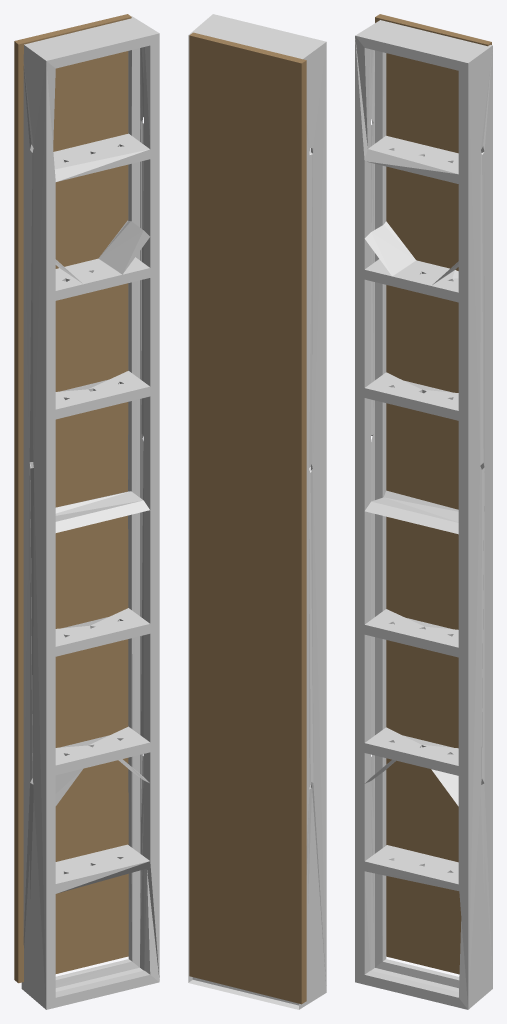
3 renders of one model, left to right at view 1: azimuth 30°, elevation 25°; view 2: azimuth 150°, elevation 25°; view 3: azimuth 330°, elevation 25°, orthographic.
Visible parts, largest first — view 1: 24304244; view 2: 24304244; view 3: 24304244.
Boxes of the visible parts, box(x1,y1,x2,y2) form: 24304244: box(14, 14, 159, 1009); 24304244: box(188, 14, 326, 1009); 24304244: box(355, 14, 492, 1009).
Size of the model in its own units: 0.3108 by 2.4 by 0.1306.
